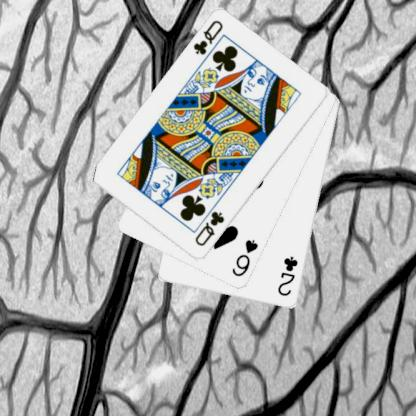2C: (275, 254, 300, 298)
6S: (229, 236, 260, 278)
QC: (190, 18, 225, 58), (192, 208, 226, 248)
